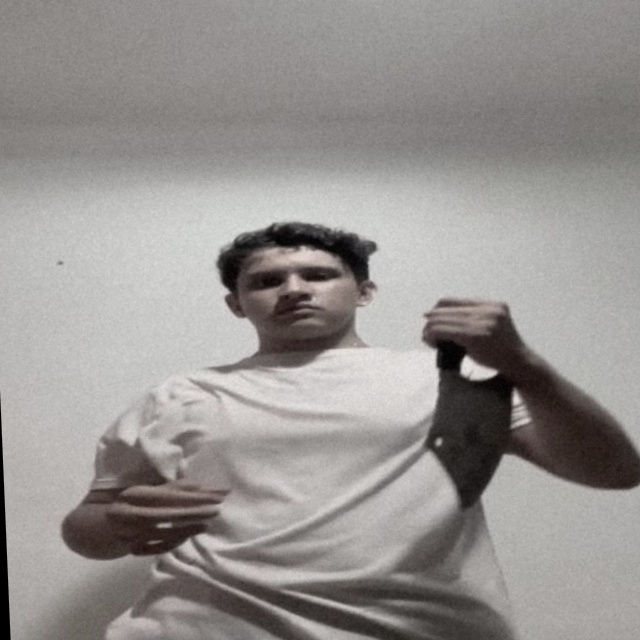Sharp-Object: (429, 365, 517, 504)
